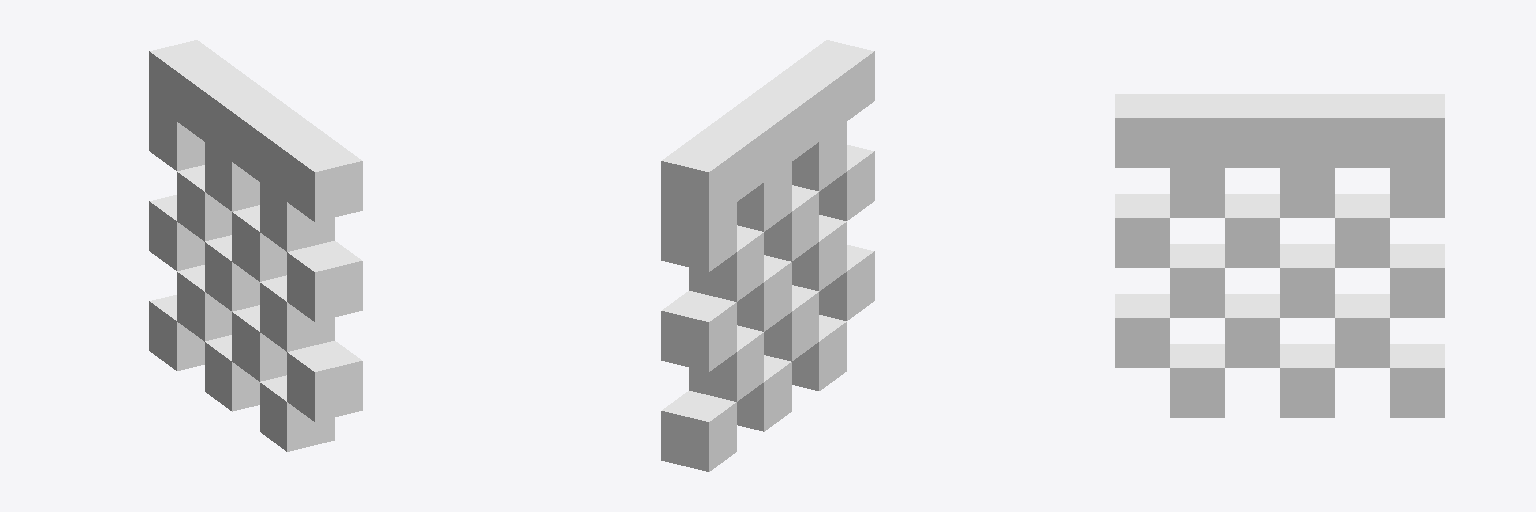
The model's file is SideVGrate.obj.
3 renders of one model, left to right at view 1: azimuth 30°, elevation 25°; view 2: azimuth 150°, elevation 25°; view 3: azimuth 270°, elevation 25°, orthographic.
Visible parts, largest first — view 1: object 1; view 2: object 1; view 3: object 1.
Boxes of the visible parts, <box> form: object 1: <box>149,40,362,451</box>; object 1: <box>661,40,874,471</box>; object 1: <box>1115,94,1444,417</box>.
Bounding box in the file's own units: 0.1 × 0.6 × 0.6.